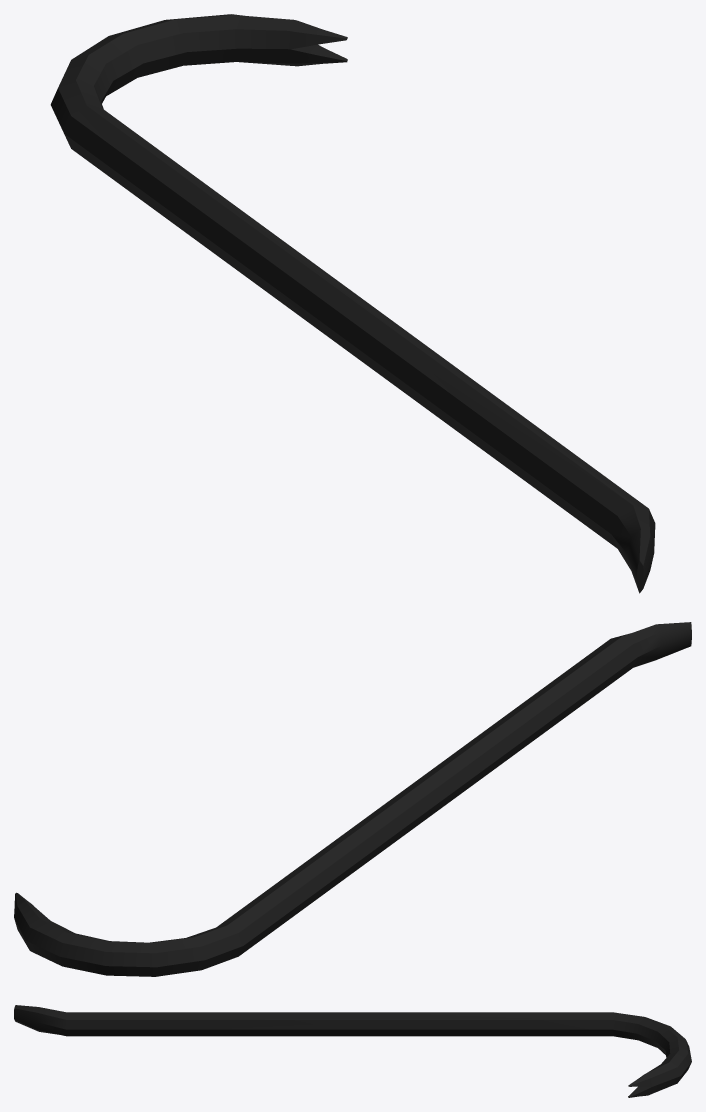
The model's file is PryBar.fbx.
3 renders of one model, top to bottom at view 1: azimuth 30°, elevation 25°; view 2: azimuth 150°, elevation 25°; view 3: azimuth 270°, elevation 25°, orthographic. The views are drawn at different scales.
Parts seen in each view (by area): view 1: PryBar; view 2: PryBar; view 3: PryBar.
Part boxes in pixels (box(x1,y1,x2,y2)): PryBar: box(50, 14, 655, 593); PryBar: box(14, 622, 691, 976); PryBar: box(14, 1005, 691, 1097).
Bounding box in the file's own units: 41.73 × 6.1 × 151.
